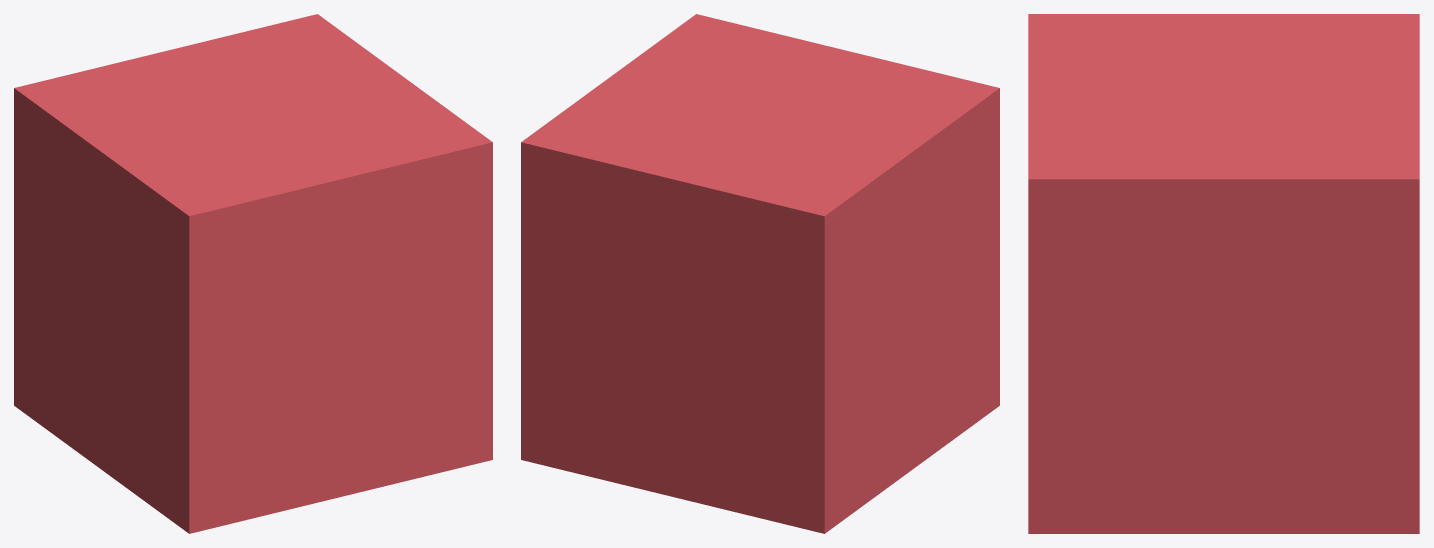
File: square2.glb
3 views of the same model, side by side, from view 1: azimuth 30°, elevation 25°; view 2: azimuth 150°, elevation 25°; view 3: azimuth 270°, elevation 25° (orthographic). The views are drawn at different scales.
Visible parts, largest first — view 1: Cube; view 2: Cube; view 3: Cube.
Part boxes in pixels (x1,y1,x2,y2): Cube: [14, 14, 492, 533]; Cube: [521, 14, 999, 533]; Cube: [1028, 14, 1419, 533].
Bounding box in the file's own units: 2 × 2 × 2.
